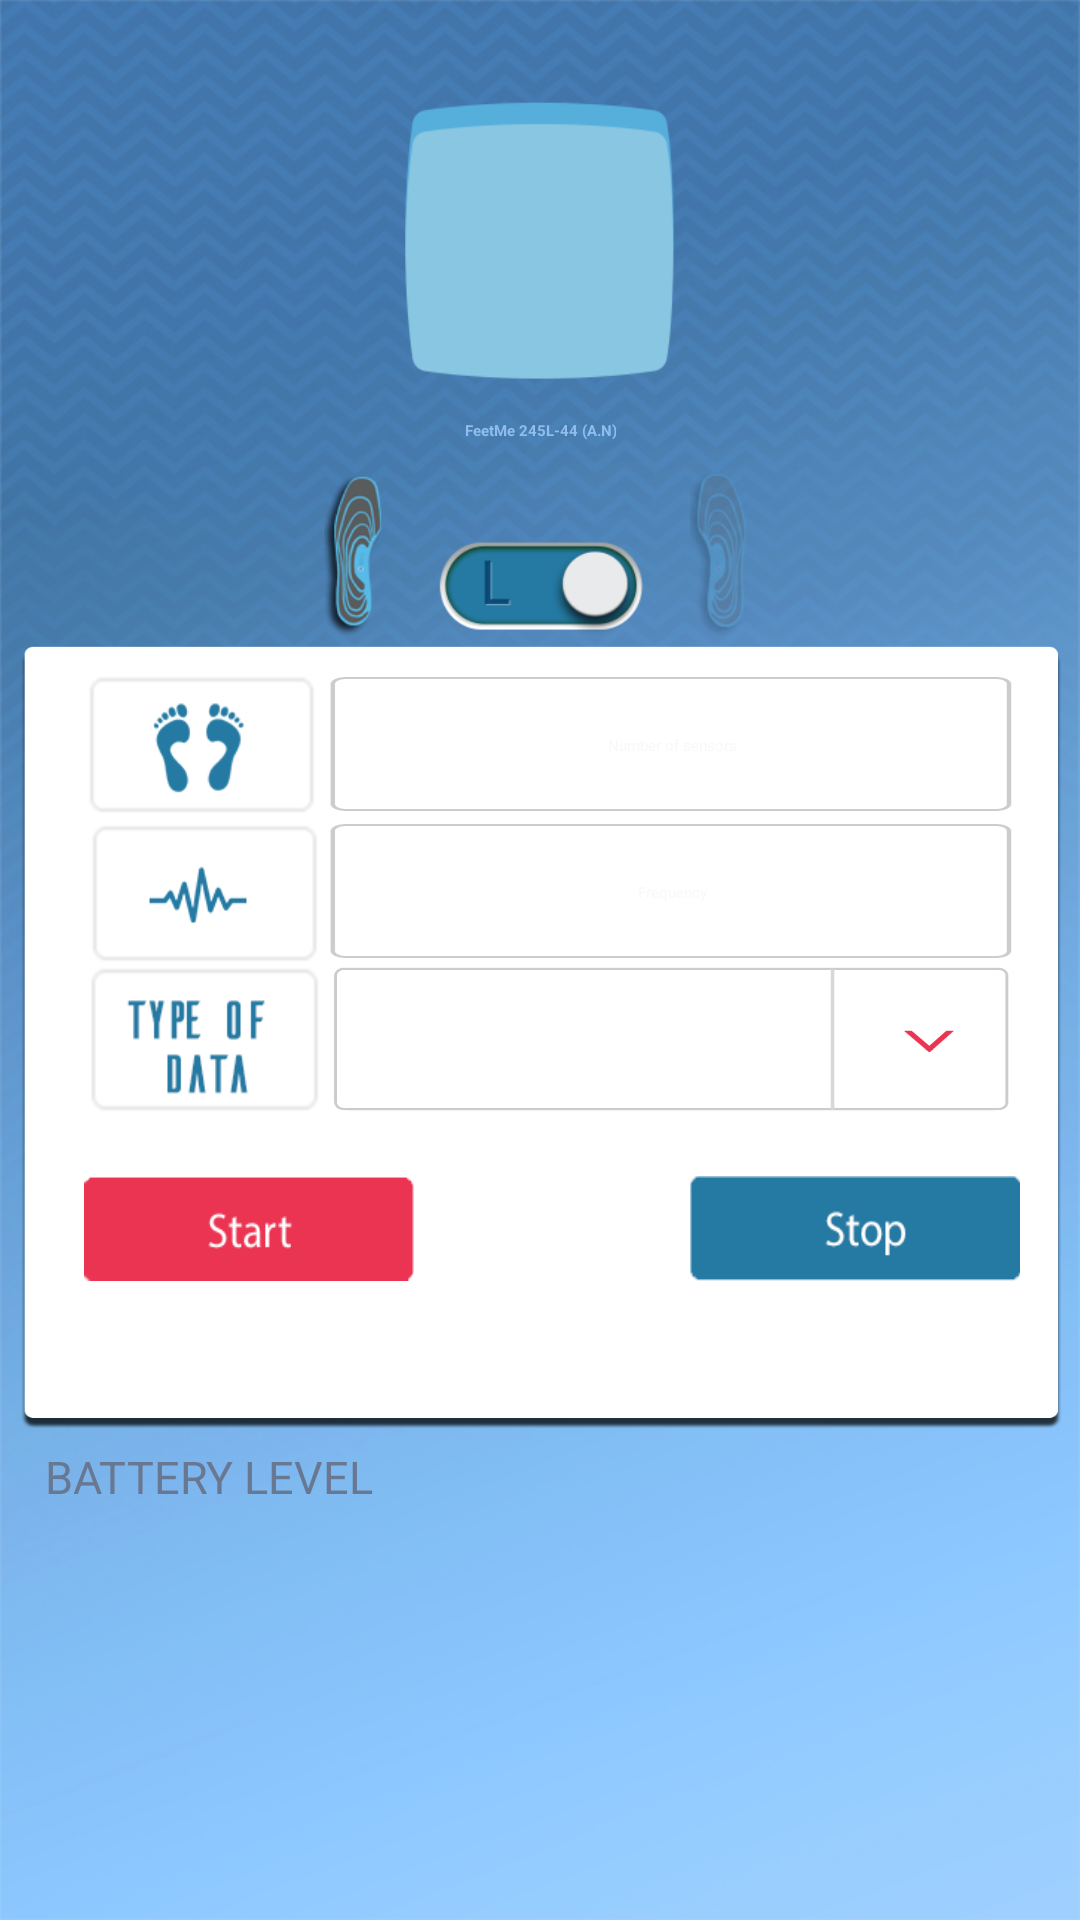

Icon click points for this 1080 x 1920 phone screenshot, format [x,y]:
left insolefoot: [353,555]
right insolefoot uncliqued: [718,552]
toggle switch: [541,586]
